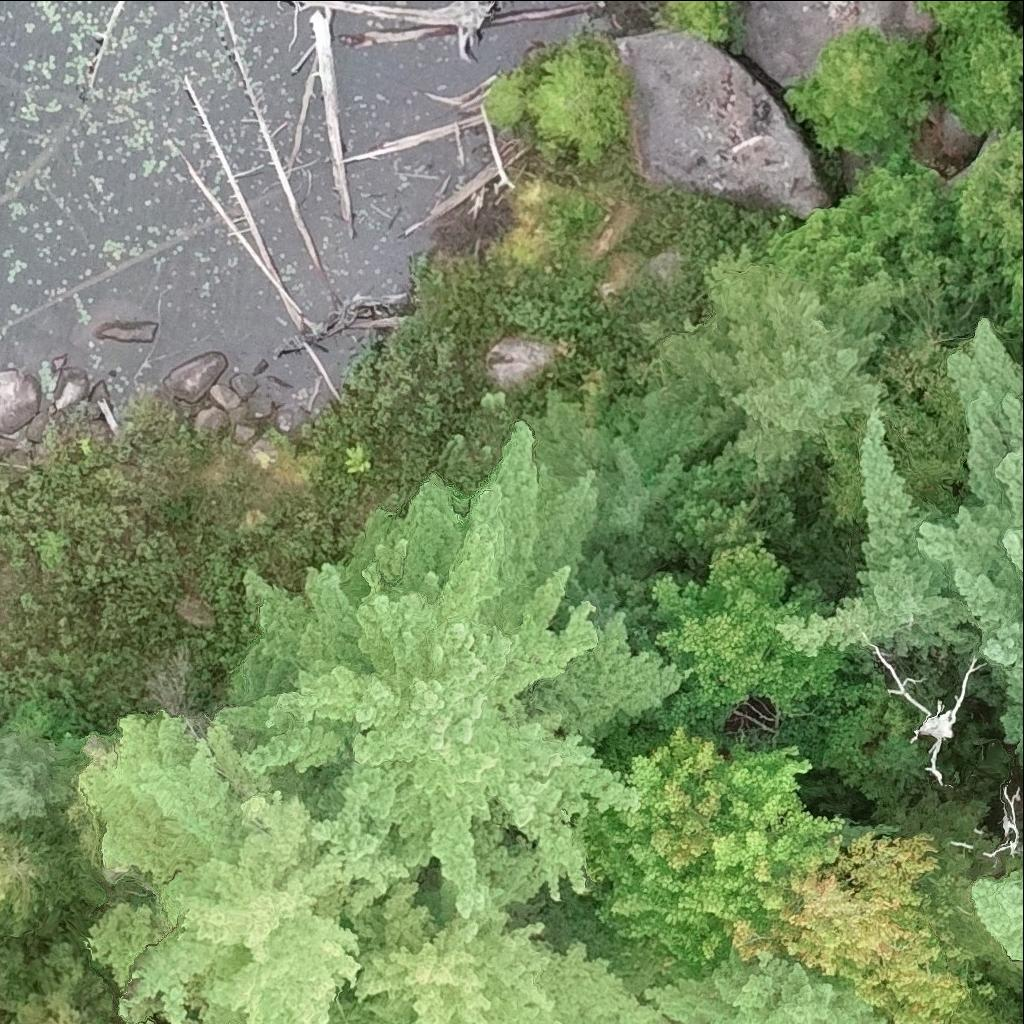crown: (214, 423, 677, 924), (780, 319, 1023, 750), (85, 714, 406, 1023), (588, 726, 843, 978), (752, 134, 965, 398), (669, 246, 893, 476), (333, 886, 677, 1023), (729, 834, 966, 1023), (655, 546, 847, 741), (521, 381, 688, 539), (646, 933, 882, 1023), (787, 27, 944, 156), (880, 332, 973, 510), (525, 34, 629, 165), (879, 654, 976, 781), (0, 831, 98, 938), (939, 20, 1023, 136), (0, 732, 75, 828), (972, 867, 1023, 969), (7, 976, 114, 1023), (485, 67, 538, 131), (26, 945, 91, 994), (0, 947, 41, 1023), (927, 0, 1009, 35), (935, 988, 1010, 1023), (1023, 752, 1023, 753)
